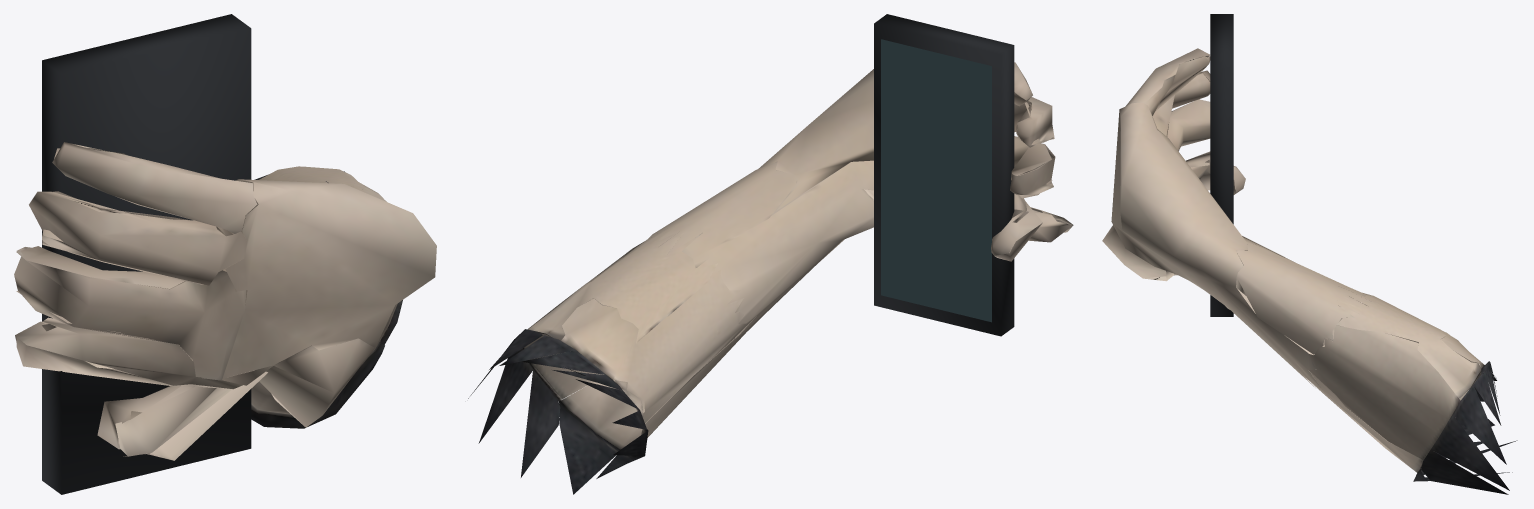
The model's file is RakaDesignerPhoneHand.fbx.
3 renders of one model, left to right at view 1: azimuth 30°, elevation 25°; view 2: azimuth 150°, elevation 25°; view 3: azimuth 270°, elevation 25°, orthographic. The views are drawn at different scales.
Parts seen in each view (by area): view 1: PhoneHand_VisibleSkin, PhoneHand_HandheldPhone; view 2: PhoneHand_VisibleSkin, PhoneHand_HandsetScreen, PhoneHand_HandheldPhone; view 3: PhoneHand_VisibleSkin, PhoneHand_HandheldPhone.
Part boxes in pixels (box(x1,y1,x2,y2)): PhoneHand_VisibleSkin: box(14, 142, 436, 460); PhoneHand_HandheldPhone: box(42, 14, 251, 494); PhoneHand_VisibleSkin: box(468, 62, 1073, 494); PhoneHand_HandsetScreen: box(881, 39, 991, 322); PhoneHand_HandheldPhone: box(874, 14, 1014, 336); PhoneHand_VisibleSkin: box(1102, 48, 1517, 494); PhoneHand_HandheldPhone: box(1210, 14, 1233, 316).
Bounding box in the file's own units: 25.21 × 22.88 × 25.17.
